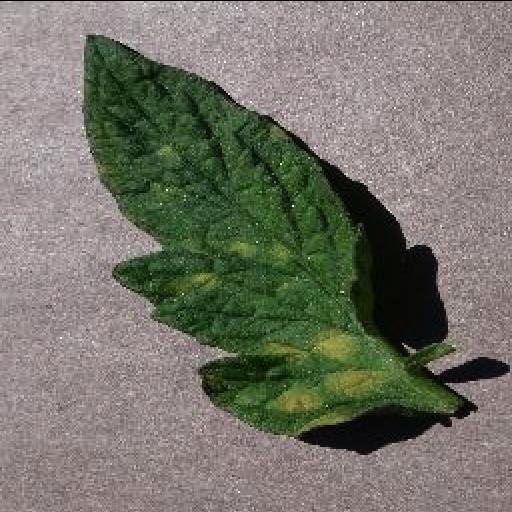disease_tomato: (82, 26, 382, 440)
